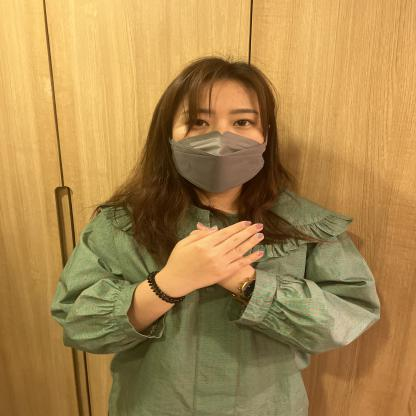Grieve: (87, 190, 407, 355)
